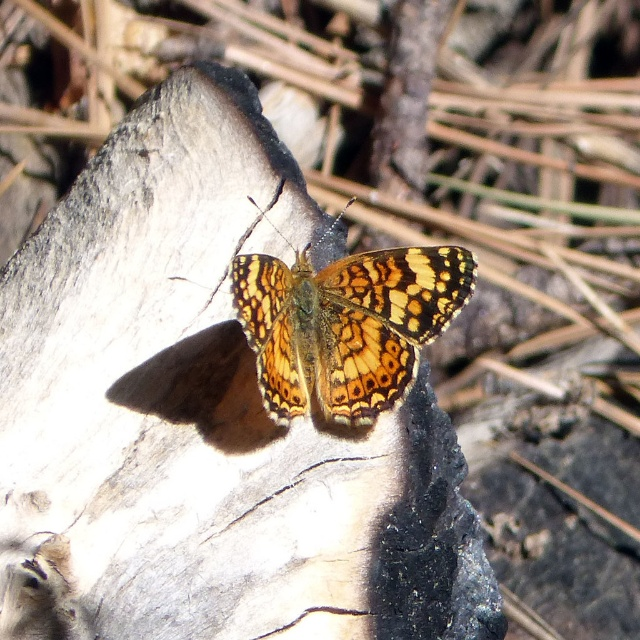Butterfly: (231, 198, 476, 429)
